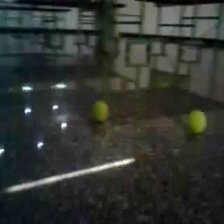tennis: (188, 111, 207, 134), (91, 101, 110, 123)
